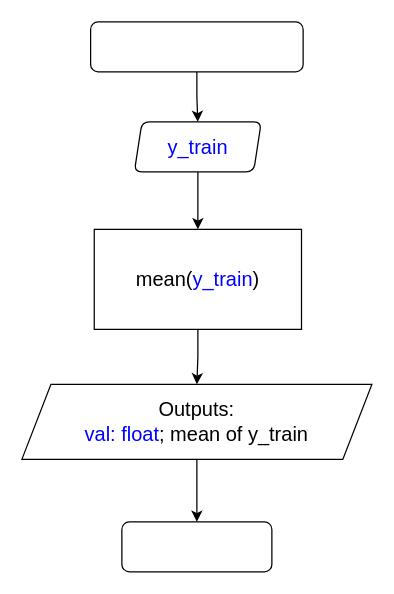
This 394x594 diagram has some shape labels left out. The shapes that lost their labels are listed below. From the top down, each one's centre as x and y in pixels, then its label:
the point at 196,46: calculate_leaf_value
the point at 196,546: End
